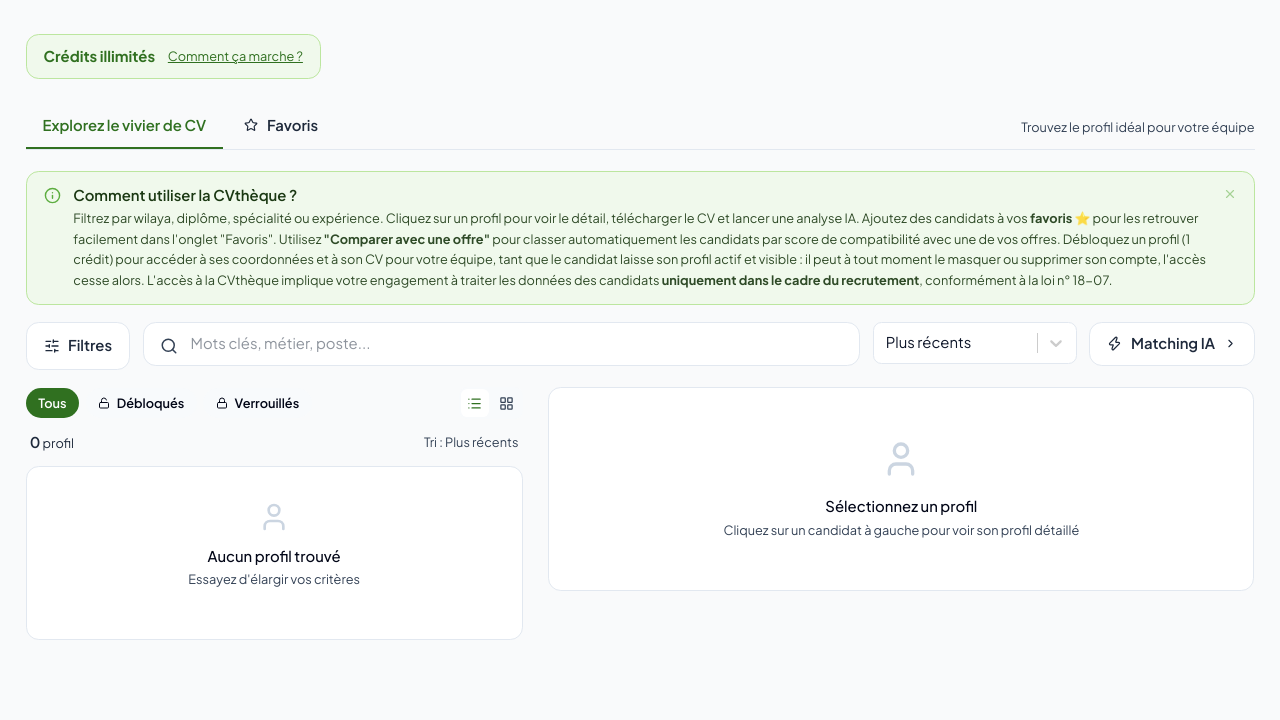
Test: 🔍 UI & Logique - Composant <CVTheque /> › 🟢 HP4 : Ouverture de la Modal de profil complet
The image size is (1280, 720).
Type "A" into the field with placeholder "Mots clés, métier, poste..." at (501, 344), box [143, 322, 860, 366]
Wait 500 ms
(page scrolled)
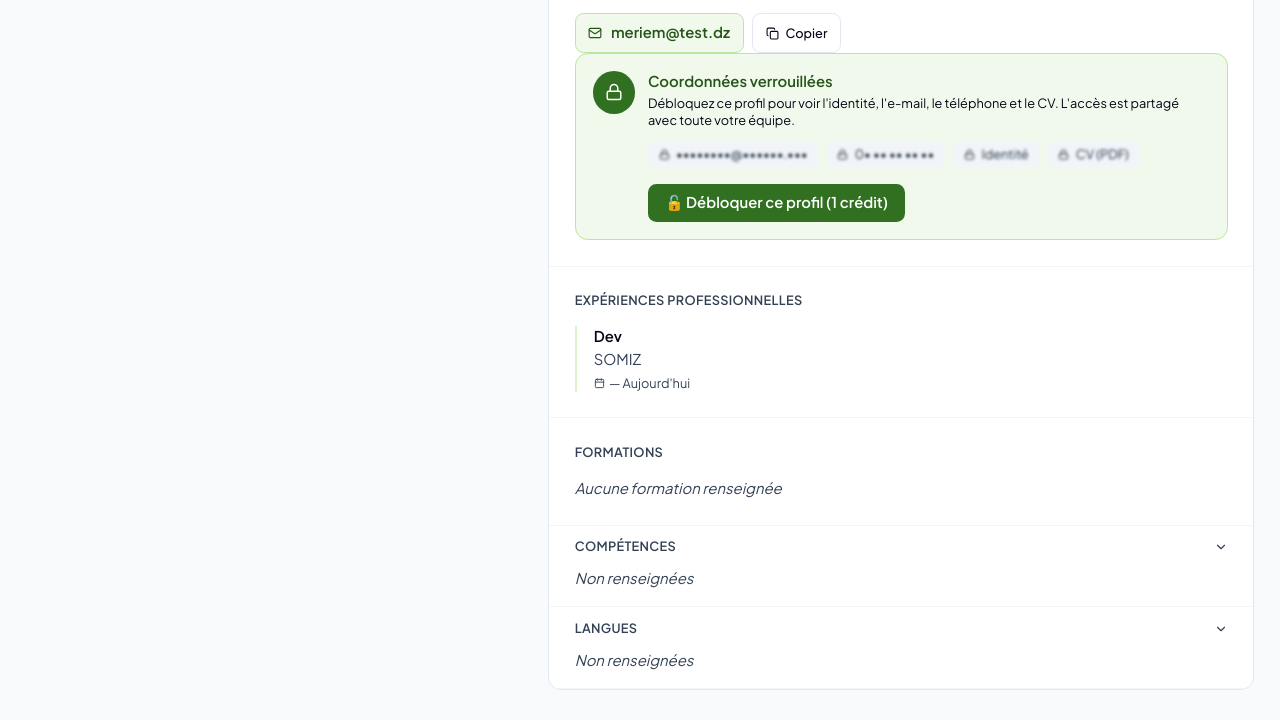
Expected: the heading "Expériences professionnelles" is shown, [575, 292, 802, 308]
Expected: the text "SOMIZ" is shown, [594, 350, 641, 368]
